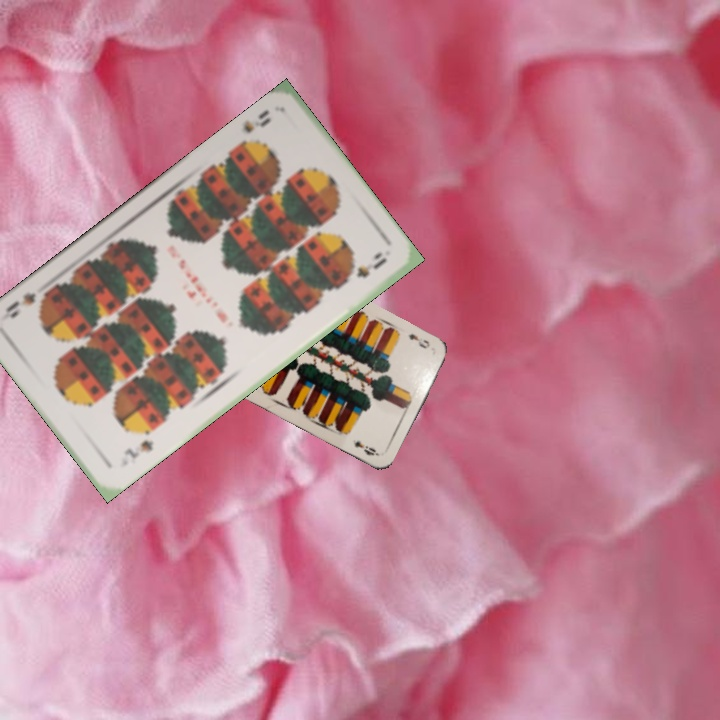E9: (404, 329, 432, 351)
S9: (231, 105, 274, 150), (119, 436, 157, 462)
